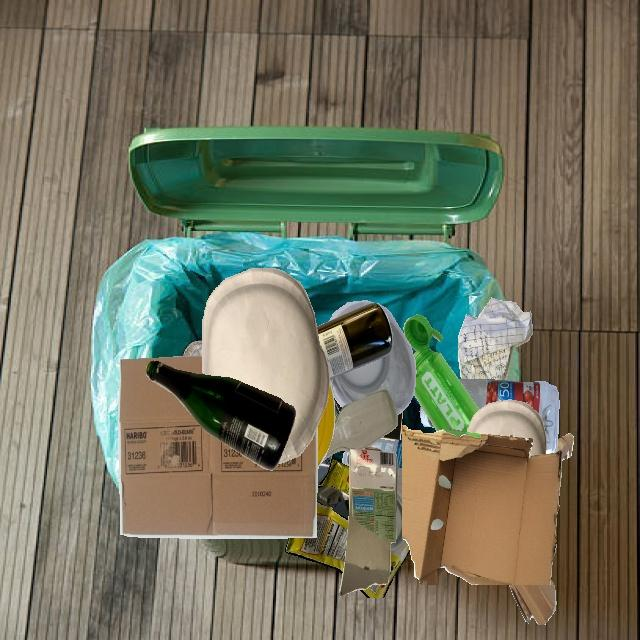cardboard: (118, 356, 317, 539), (402, 425, 562, 585), (339, 447, 398, 596), (509, 579, 556, 625), (380, 411, 403, 440)
glass: (146, 360, 296, 470), (316, 303, 394, 380), (322, 389, 397, 462), (391, 468, 408, 551)
metal: (183, 340, 203, 357)
paper: (203, 268, 330, 464), (458, 297, 533, 380), (467, 399, 546, 456)
plastic: (329, 305, 416, 416), (403, 314, 479, 432), (458, 379, 559, 454), (317, 381, 335, 470), (367, 430, 402, 468)
trash: (317, 453, 350, 520)
